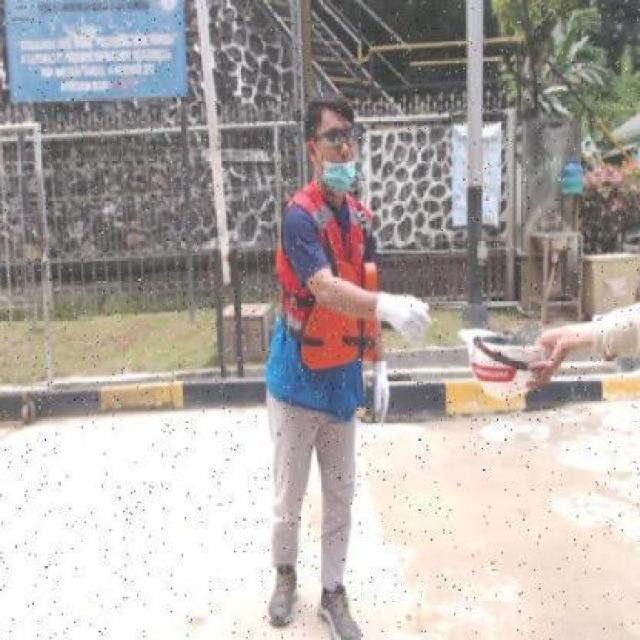Boots: (316, 581, 362, 640), (266, 565, 300, 630)
Gloves: (373, 288, 433, 350), (368, 356, 394, 429)
Helmet: (454, 324, 549, 408)
Mask: (321, 158, 361, 199)
Protective Glasses: (316, 128, 359, 148)
Vest: (292, 252, 383, 370)
